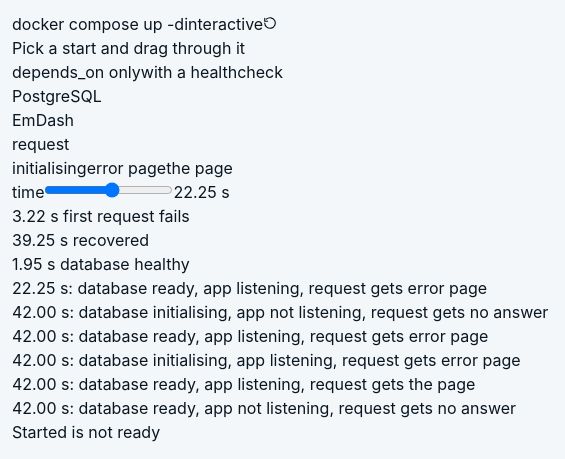
Test case: StartupTimeline › the healthcheck start serves the page at the same moment
Click the button "with a healthcheck". click: coordinates (212, 72)
box: [141,60,283,84]
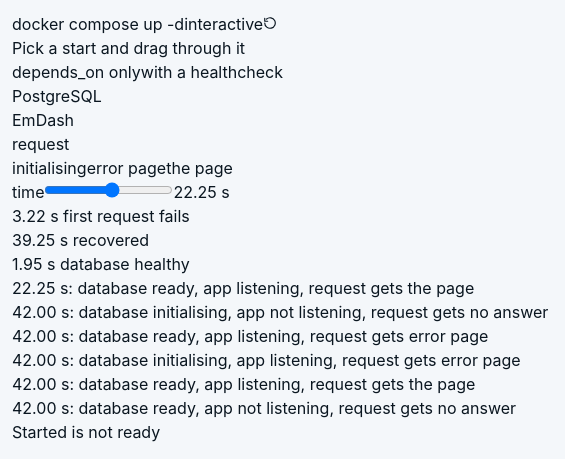
Result: the text "22.25 s: database ready, app listening, request gets the page" is shown at [12,278,474,298]
